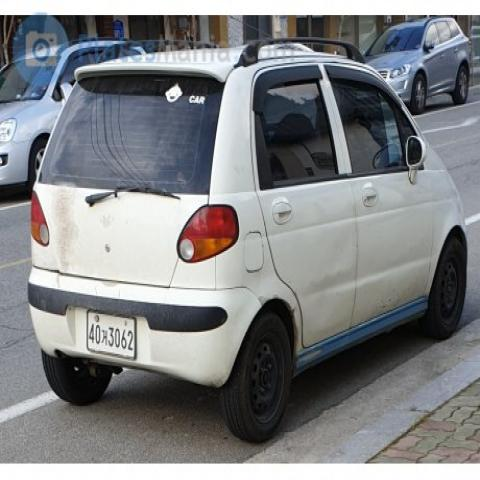LP: (72, 300, 154, 368)
